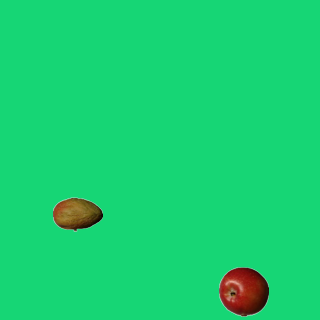Apple Braeburn: (218, 266, 268, 316)
Papaya: (52, 189, 102, 239)
